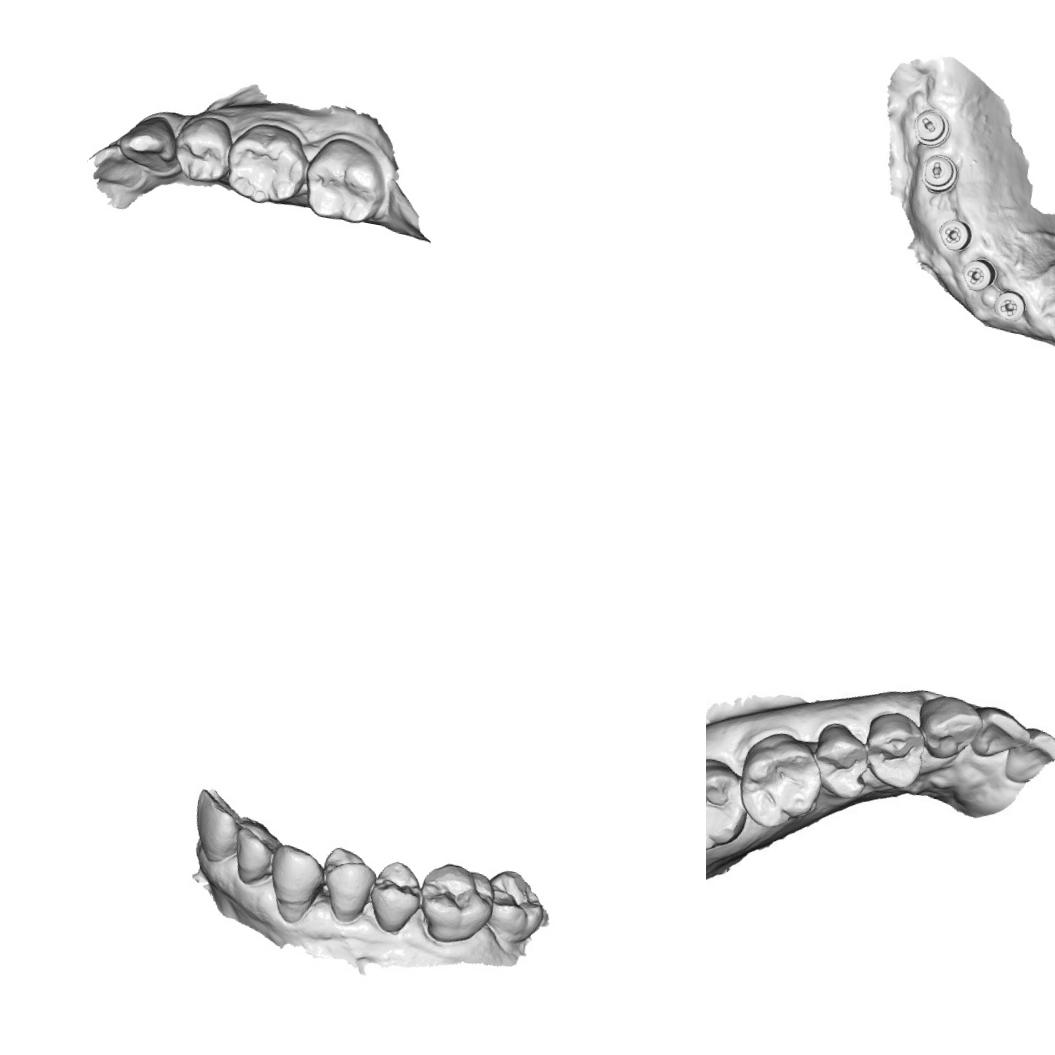canine: (909, 686, 987, 764), (260, 840, 328, 920), (113, 108, 181, 174)
implant_minus: (916, 151, 962, 197), (910, 106, 954, 150)
implant_plus: (956, 254, 998, 295), (934, 215, 975, 254), (989, 285, 1028, 324)
incisor: (186, 783, 246, 867), (228, 814, 284, 890), (972, 701, 1028, 762), (86, 142, 146, 192)
molar: (734, 735, 824, 839), (299, 131, 392, 228), (218, 116, 312, 210), (412, 858, 498, 952), (478, 866, 550, 950), (706, 749, 754, 858)
premolar: (856, 708, 926, 793), (167, 110, 240, 188), (812, 723, 876, 808), (314, 844, 379, 927), (364, 856, 426, 937)
